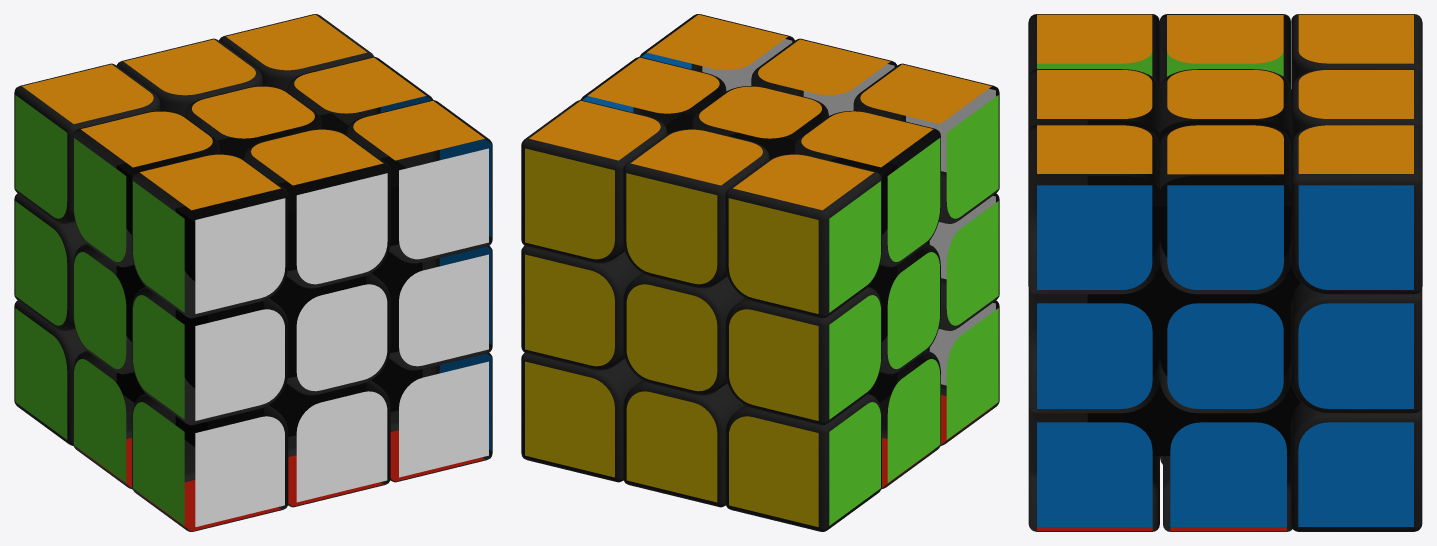
File: RubiksCubeColored.glb
3 renders of one model, left to right at view 1: azimuth 30°, elevation 25°; view 2: azimuth 150°, elevation 25°; view 3: azimuth 270°, elevation 25°, orthographic. The views are drawn at different scales.
Visible parts, largest first — view 1: Rubik, 14_White_0, 13_White_0, 10_White_0, 17_White_0, 11_White_0, 12_White_0, 18_White_0, 15_White_0, 19_White_0, 6_Green_0, 3_Green_0 (+41 smaller); view 2: 3_Yellow_0, 2_Yellow_0, 8_Yellow_0, 7_Yellow_0, 6_Yellow_0, 1_Yellow_0, 5_Yellow_0, 4_Yellow_0, 9_Yellow_0, 25_Green_0, 26_Green_0, 11_Green_0 (+38 smaller); view 3: Rubik, 1_Blue_0, 12_Blue_0, 17_Blue_0, 7_Blue_0, 24_Blue_0, 15_Blue_0, 4_Blue_0, 23_Blue_0, 16_Blue_0, 14_Orange_0, 3_Orange_0 (+26 smaller).
Part boxes in pixels (x1,y1,x2,y2): Rubik: [116, 113, 422, 446]; 14_White_0: [195, 198, 285, 313]; 13_White_0: [296, 173, 387, 284]; 10_White_0: [296, 391, 387, 502]; 17_White_0: [399, 361, 488, 477]; 11_White_0: [195, 416, 284, 526]; 12_White_0: [399, 148, 488, 259]; 18_White_0: [195, 309, 284, 420]; 15_White_0: [399, 254, 488, 366]; 19_White_0: [296, 284, 387, 391]; 6_Green_0: [15, 308, 67, 439]; 3_Green_0: [15, 95, 67, 218]; 3_Yellow_0: [728, 198, 818, 313]; 2_Yellow_0: [626, 173, 717, 284]; 8_Yellow_0: [626, 391, 717, 502]; 7_Yellow_0: [525, 361, 614, 477]; 6_Yellow_0: [729, 416, 818, 526]; 1_Yellow_0: [525, 148, 614, 259]; 5_Yellow_0: [729, 309, 818, 420]; 4_Yellow_0: [525, 254, 614, 366]; 9_Yellow_0: [626, 284, 717, 391]; 25_Green_0: [887, 359, 940, 482]; 26_Green_0: [887, 138, 940, 261]; 11_Green_0: [946, 308, 998, 439]; Rubik: [1087, 120, 1300, 455]; 1_Blue_0: [1298, 185, 1413, 289]; 12_Blue_0: [1037, 185, 1152, 289]; 17_Blue_0: [1037, 422, 1152, 526]; 7_Blue_0: [1298, 422, 1413, 526]; 24_Blue_0: [1167, 185, 1283, 289]; 15_Blue_0: [1037, 303, 1152, 408]; 4_Blue_0: [1298, 303, 1413, 408]; 23_Blue_0: [1170, 422, 1286, 526]; 16_Blue_0: [1167, 303, 1283, 408]; 14_Orange_0: [1037, 14, 1152, 63]; 3_Orange_0: [1298, 14, 1413, 63].
Bounding box in the file's own units: 120 × 120 × 120.
